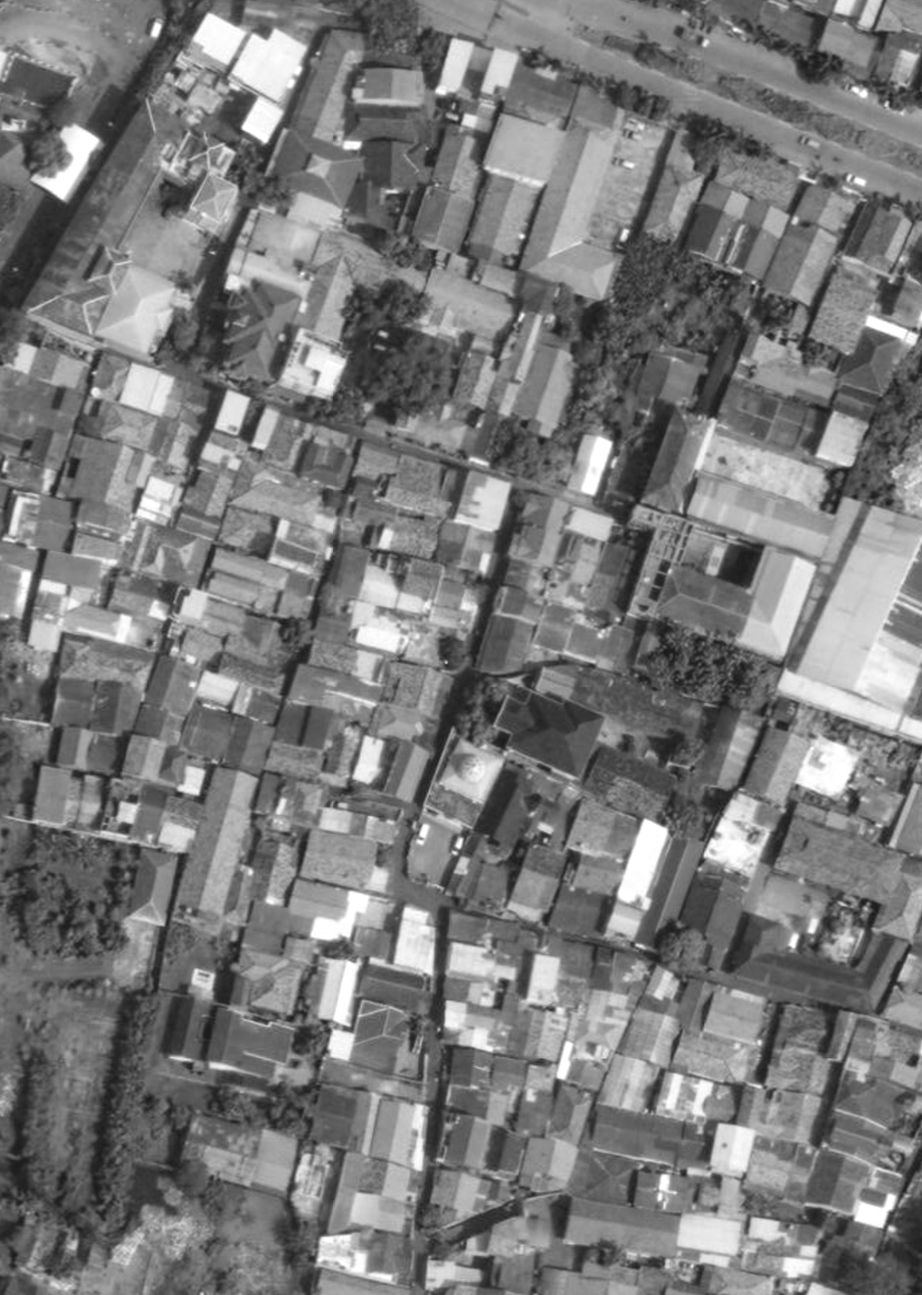building: (14, 95, 193, 339), (775, 493, 922, 744), (604, 502, 818, 665), (513, 94, 663, 303), (787, 497, 922, 698), (716, 914, 905, 1017), (529, 646, 706, 753), (69, 347, 215, 474), (17, 221, 135, 349), (683, 468, 840, 564), (171, 763, 264, 922), (429, 910, 538, 1041), (470, 542, 568, 685), (771, 811, 910, 911), (485, 678, 607, 782), (253, 125, 366, 237), (201, 270, 304, 391), (476, 755, 586, 865), (307, 1076, 433, 1172), (219, 203, 329, 312), (88, 258, 193, 371), (675, 1205, 823, 1285), (174, 1107, 303, 1198), (729, 543, 819, 662), (287, 21, 370, 146), (309, 223, 429, 309), (416, 730, 508, 834), (552, 977, 639, 1086), (412, 265, 520, 352), (636, 131, 717, 247), (585, 1103, 716, 1174), (0, 367, 86, 475), (666, 866, 752, 973), (346, 441, 459, 522), (196, 1002, 297, 1090), (733, 330, 844, 409), (578, 742, 681, 827), (635, 831, 706, 952), (638, 406, 715, 517), (529, 602, 636, 681), (699, 786, 784, 884), (60, 431, 156, 517), (559, 1195, 683, 1261), (435, 1043, 530, 1128), (506, 338, 585, 440), (460, 170, 540, 268), (225, 17, 313, 106), (72, 770, 170, 849), (760, 214, 842, 308), (480, 305, 547, 418), (440, 830, 524, 920), (293, 249, 369, 346), (829, 320, 911, 408), (213, 611, 299, 694), (479, 109, 566, 191), (691, 700, 766, 795), (802, 268, 881, 357), (28, 117, 107, 205), (312, 1221, 417, 1287), (153, 120, 237, 202), (283, 658, 385, 725), (738, 721, 813, 808), (842, 1012, 922, 1092), (840, 194, 918, 276), (274, 326, 353, 406), (709, 144, 803, 211), (49, 672, 143, 738), (388, 388, 475, 458), (229, 466, 326, 528), (223, 945, 305, 1018), (820, 1109, 912, 1174), (831, 1067, 920, 1134), (503, 838, 570, 926), (498, 61, 581, 132), (733, 1081, 822, 1146), (303, 884, 382, 957), (55, 633, 155, 690), (801, 1146, 875, 1221), (614, 817, 673, 911), (296, 826, 380, 892), (482, 766, 547, 851), (505, 488, 572, 570), (176, 167, 248, 242), (527, 933, 596, 1011), (5, 333, 90, 396), (63, 496, 136, 569), (724, 910, 795, 985), (0, 487, 78, 555), (406, 182, 476, 257), (669, 1027, 753, 1089), (425, 122, 492, 199), (633, 343, 709, 410), (435, 735, 505, 806), (471, 609, 537, 683), (567, 1145, 642, 1210), (303, 632, 388, 689), (353, 957, 435, 1016), (794, 732, 862, 803), (281, 1139, 337, 1224), (293, 423, 360, 493), (239, 899, 313, 961), (399, 814, 460, 889), (140, 650, 206, 719), (596, 1050, 662, 1119), (124, 846, 179, 927), (617, 1002, 683, 1069), (515, 1131, 580, 1199), (700, 984, 770, 1047), (146, 524, 213, 589), (380, 655, 448, 719), (508, 489, 572, 557), (272, 698, 347, 755), (83, 396, 160, 451), (348, 998, 414, 1062), (451, 468, 514, 535), (165, 58, 231, 121), (431, 518, 500, 578), (320, 1148, 366, 1238), (208, 544, 292, 593), (185, 8, 249, 71), (367, 1095, 423, 1167), (265, 517, 331, 578), (160, 992, 215, 1065), (677, 200, 738, 265), (562, 428, 617, 500), (26, 763, 85, 830), (742, 1147, 813, 1202), (812, 14, 880, 70), (390, 903, 442, 976), (177, 702, 238, 764), (811, 407, 869, 472), (587, 943, 652, 1001), (341, 174, 403, 234), (722, 219, 781, 282), (791, 179, 856, 236), (474, 1210, 539, 1267), (151, 791, 207, 857), (762, 1043, 833, 1095), (104, 569, 173, 622), (841, 774, 905, 831), (651, 1069, 715, 1126), (582, 541, 631, 614), (874, 866, 922, 940), (379, 737, 432, 804), (772, 1001, 832, 1060), (425, 1164, 484, 1224), (374, 509, 442, 561), (563, 795, 620, 857), (270, 773, 327, 835), (542, 1080, 596, 1145), (449, 346, 502, 412), (117, 360, 177, 418), (311, 956, 360, 1027), (215, 502, 277, 558), (247, 837, 298, 905), (259, 411, 314, 474), (202, 568, 276, 614), (872, 267, 922, 335), (675, 1209, 744, 1258), (346, 105, 428, 146), (439, 1111, 495, 1171), (350, 64, 426, 108), (284, 876, 352, 925), (552, 529, 606, 590), (869, 30, 922, 92), (321, 540, 373, 602), (181, 463, 236, 521), (223, 714, 275, 775), (362, 139, 421, 192), (705, 1121, 757, 1180), (311, 1268, 424, 1295), (432, 34, 477, 101), (37, 547, 104, 592), (669, 974, 717, 1035), (537, 1266, 637, 1295), (522, 1004, 570, 1064), (352, 610, 413, 657), (235, 92, 287, 147), (133, 472, 184, 528), (119, 519, 169, 576), (566, 850, 625, 898), (358, 1155, 417, 1203), (24, 589, 68, 653), (263, 739, 326, 783), (118, 732, 169, 786), (319, 722, 364, 783), (828, 1214, 886, 1261), (60, 599, 123, 642), (195, 595, 250, 644), (272, 571, 321, 626), (84, 348, 132, 403), (629, 1166, 686, 1212), (510, 1082, 555, 1139), (849, 1182, 899, 1233), (477, 44, 521, 101), (395, 554, 446, 603), (355, 563, 405, 612), (297, 704, 345, 755), (889, 782, 922, 856), (490, 582, 546, 625), (174, 622, 226, 668), (230, 681, 283, 726), (349, 733, 391, 789), (487, 1248, 537, 1295), (740, 195, 792, 240), (484, 1127, 529, 1179), (698, 178, 752, 221), (820, 1006, 860, 1064), (132, 702, 185, 745), (695, 1172, 746, 1216), (370, 702, 426, 742), (343, 492, 397, 533), (51, 723, 95, 773), (246, 769, 288, 821), (699, 1266, 774, 1295), (563, 503, 616, 544), (211, 387, 252, 438), (878, 983, 922, 1030), (193, 668, 241, 711), (367, 1194, 412, 1237), (197, 436, 246, 475), (49, 301, 99, 339), (425, 1259, 482, 1290), (197, 137, 238, 180), (874, 0, 922, 36), (248, 404, 282, 453), (432, 575, 471, 614), (870, 1059, 922, 1088), (518, 960, 551, 1005), (351, 925, 393, 960), (312, 609, 353, 644), (702, 1082, 737, 1122), (780, 1245, 818, 1279), (745, 1215, 788, 1245), (175, 761, 207, 798), (896, 948, 922, 992), (325, 1027, 356, 1063), (636, 1266, 671, 1295), (855, 0, 884, 32), (833, 0, 862, 17), (350, 1193, 363, 1223)
tree: (87, 990, 163, 1226), (355, 318, 467, 433), (14, 1157, 123, 1269), (554, 356, 627, 442), (149, 304, 225, 384), (581, 293, 655, 371), (334, 280, 430, 339), (491, 422, 576, 488), (15, 1057, 63, 1169), (256, 1076, 322, 1143), (654, 784, 718, 847), (374, 221, 438, 283), (681, 642, 741, 708), (719, 659, 780, 719), (309, 378, 370, 438), (603, 258, 662, 320), (173, 1243, 241, 1295), (16, 894, 64, 960), (613, 78, 675, 129), (15, 122, 69, 180), (203, 1080, 269, 1127), (445, 700, 499, 756), (60, 896, 105, 962), (133, 39, 180, 102), (356, 3, 420, 48), (841, 1253, 910, 1293), (200, 1178, 255, 1228), (11, 864, 78, 905), (864, 403, 915, 454), (152, 916, 204, 965), (640, 646, 689, 696), (655, 927, 704, 976), (605, 394, 647, 451), (836, 459, 888, 505), (406, 25, 455, 73), (680, 127, 728, 176), (757, 86, 811, 129), (750, 293, 797, 341), (31, 818, 78, 865), (37, 1242, 82, 1289), (430, 629, 475, 676), (622, 232, 670, 276), (280, 1221, 318, 1276), (63, 831, 109, 876), (274, 610, 318, 655), (42, 91, 87, 135), (666, 730, 710, 774), (227, 141, 262, 196), (156, 9, 200, 52), (659, 620, 701, 665), (625, 27, 667, 72), (1, 305, 31, 366), (854, 434, 897, 475), (251, 174, 296, 213), (887, 368, 921, 417), (193, 112, 238, 148), (802, 54, 849, 88), (716, 274, 754, 316), (310, 578, 349, 618), (875, 80, 917, 117), (175, 1159, 212, 1199), (690, 265, 727, 304), (92, 916, 128, 956), (200, 933, 238, 970), (799, 338, 836, 375), (170, 270, 208, 306), (106, 868, 130, 924), (413, 1205, 450, 1241), (818, 712, 854, 748), (555, 291, 580, 341), (467, 675, 511, 703), (0, 1182, 30, 1223), (673, 768, 714, 798), (63, 1128, 98, 1162), (683, 324, 719, 357), (0, 187, 25, 233), (243, 378, 271, 418), (142, 1091, 173, 1124), (460, 572, 491, 605), (157, 186, 190, 217), (619, 730, 651, 761), (664, 253, 694, 285), (884, 743, 914, 773), (293, 1032, 327, 1058), (324, 938, 354, 967), (425, 1238, 454, 1267), (4, 1224, 32, 1253), (573, 339, 602, 367), (811, 1210, 839, 1238), (318, 487, 347, 514), (112, 845, 138, 871), (348, 778, 372, 804), (588, 1248, 622, 1266), (464, 900, 500, 917), (169, 1103, 189, 1132), (373, 846, 397, 870), (745, 1193, 770, 1216), (194, 1, 230, 16), (1, 1119, 15, 1153), (23, 843, 44, 864), (852, 906, 873, 926), (824, 919, 845, 937), (0, 1244, 10, 1277), (168, 2, 190, 17), (414, 1016, 430, 1029), (299, 986, 314, 999)
